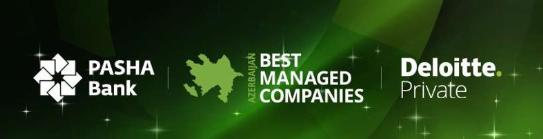Pasha Bank: (29, 51, 83, 105)
